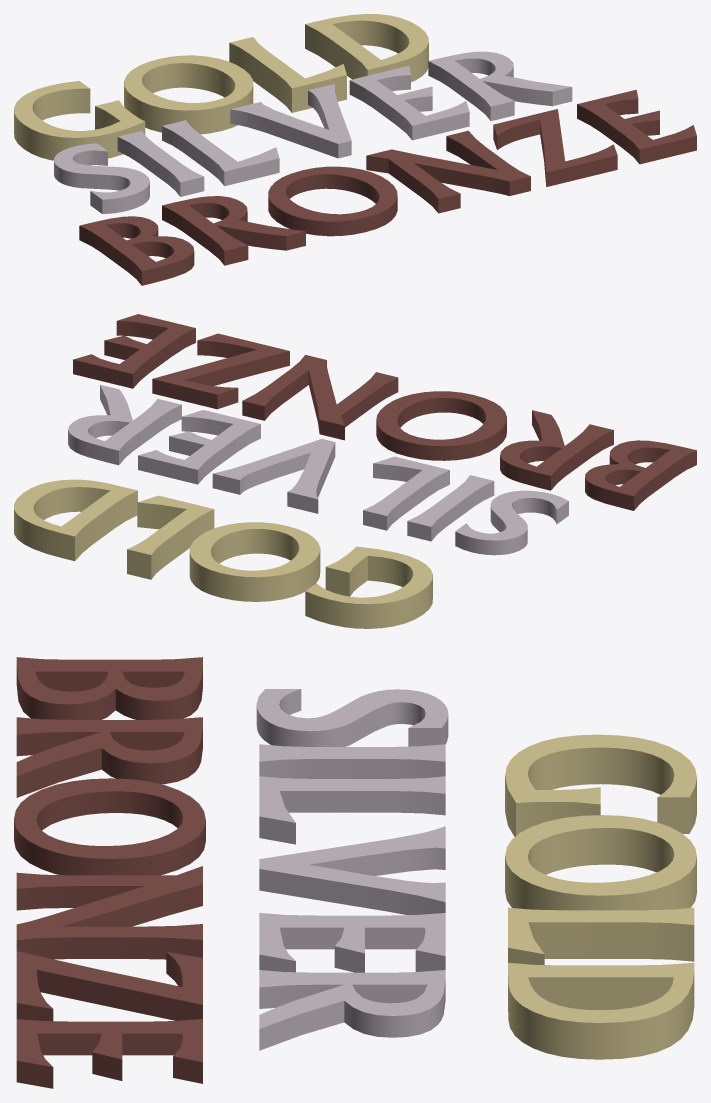
File: Medals.dae
3 views of the same model, one above another, from view 1: azimuth 30°, elevation 25°; view 2: azimuth 150°, elevation 25°; view 3: azimuth 270°, elevation 25° (orthographic). The views are drawn at different scales.
Visible parts, largest first — view 1: instance_1 (×9), instance_2 (×7), instance_0 (×6); view 2: instance_1 (×8), instance_0 (×6), instance_2 (×6); view 3: instance_1 (×10), instance_0 (×6), instance_2 (×7).
Boxes of the visible parts, box(x1,y1,x2,y2) form: instance_1 (×9): box(79, 89, 696, 285); instance_2 (×7): box(54, 51, 572, 213); instance_0 (×6): box(14, 14, 428, 160); instance_1 (×8): box(73, 314, 696, 510); instance_0 (×6): box(14, 479, 432, 628); instance_2 (×6): box(68, 384, 568, 555); instance_1 (×10): box(14, 657, 205, 1088); instance_0 (×6): box(505, 734, 696, 1059); instance_2 (×7): box(256, 689, 448, 1050).
Size of the model in its own units: 47.96 by 33.76 by 3.18.
